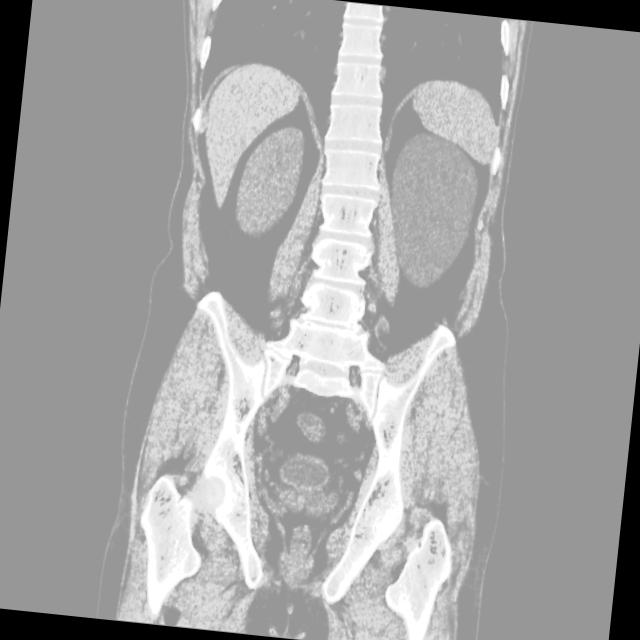cysts: (99, 0, 540, 640)
